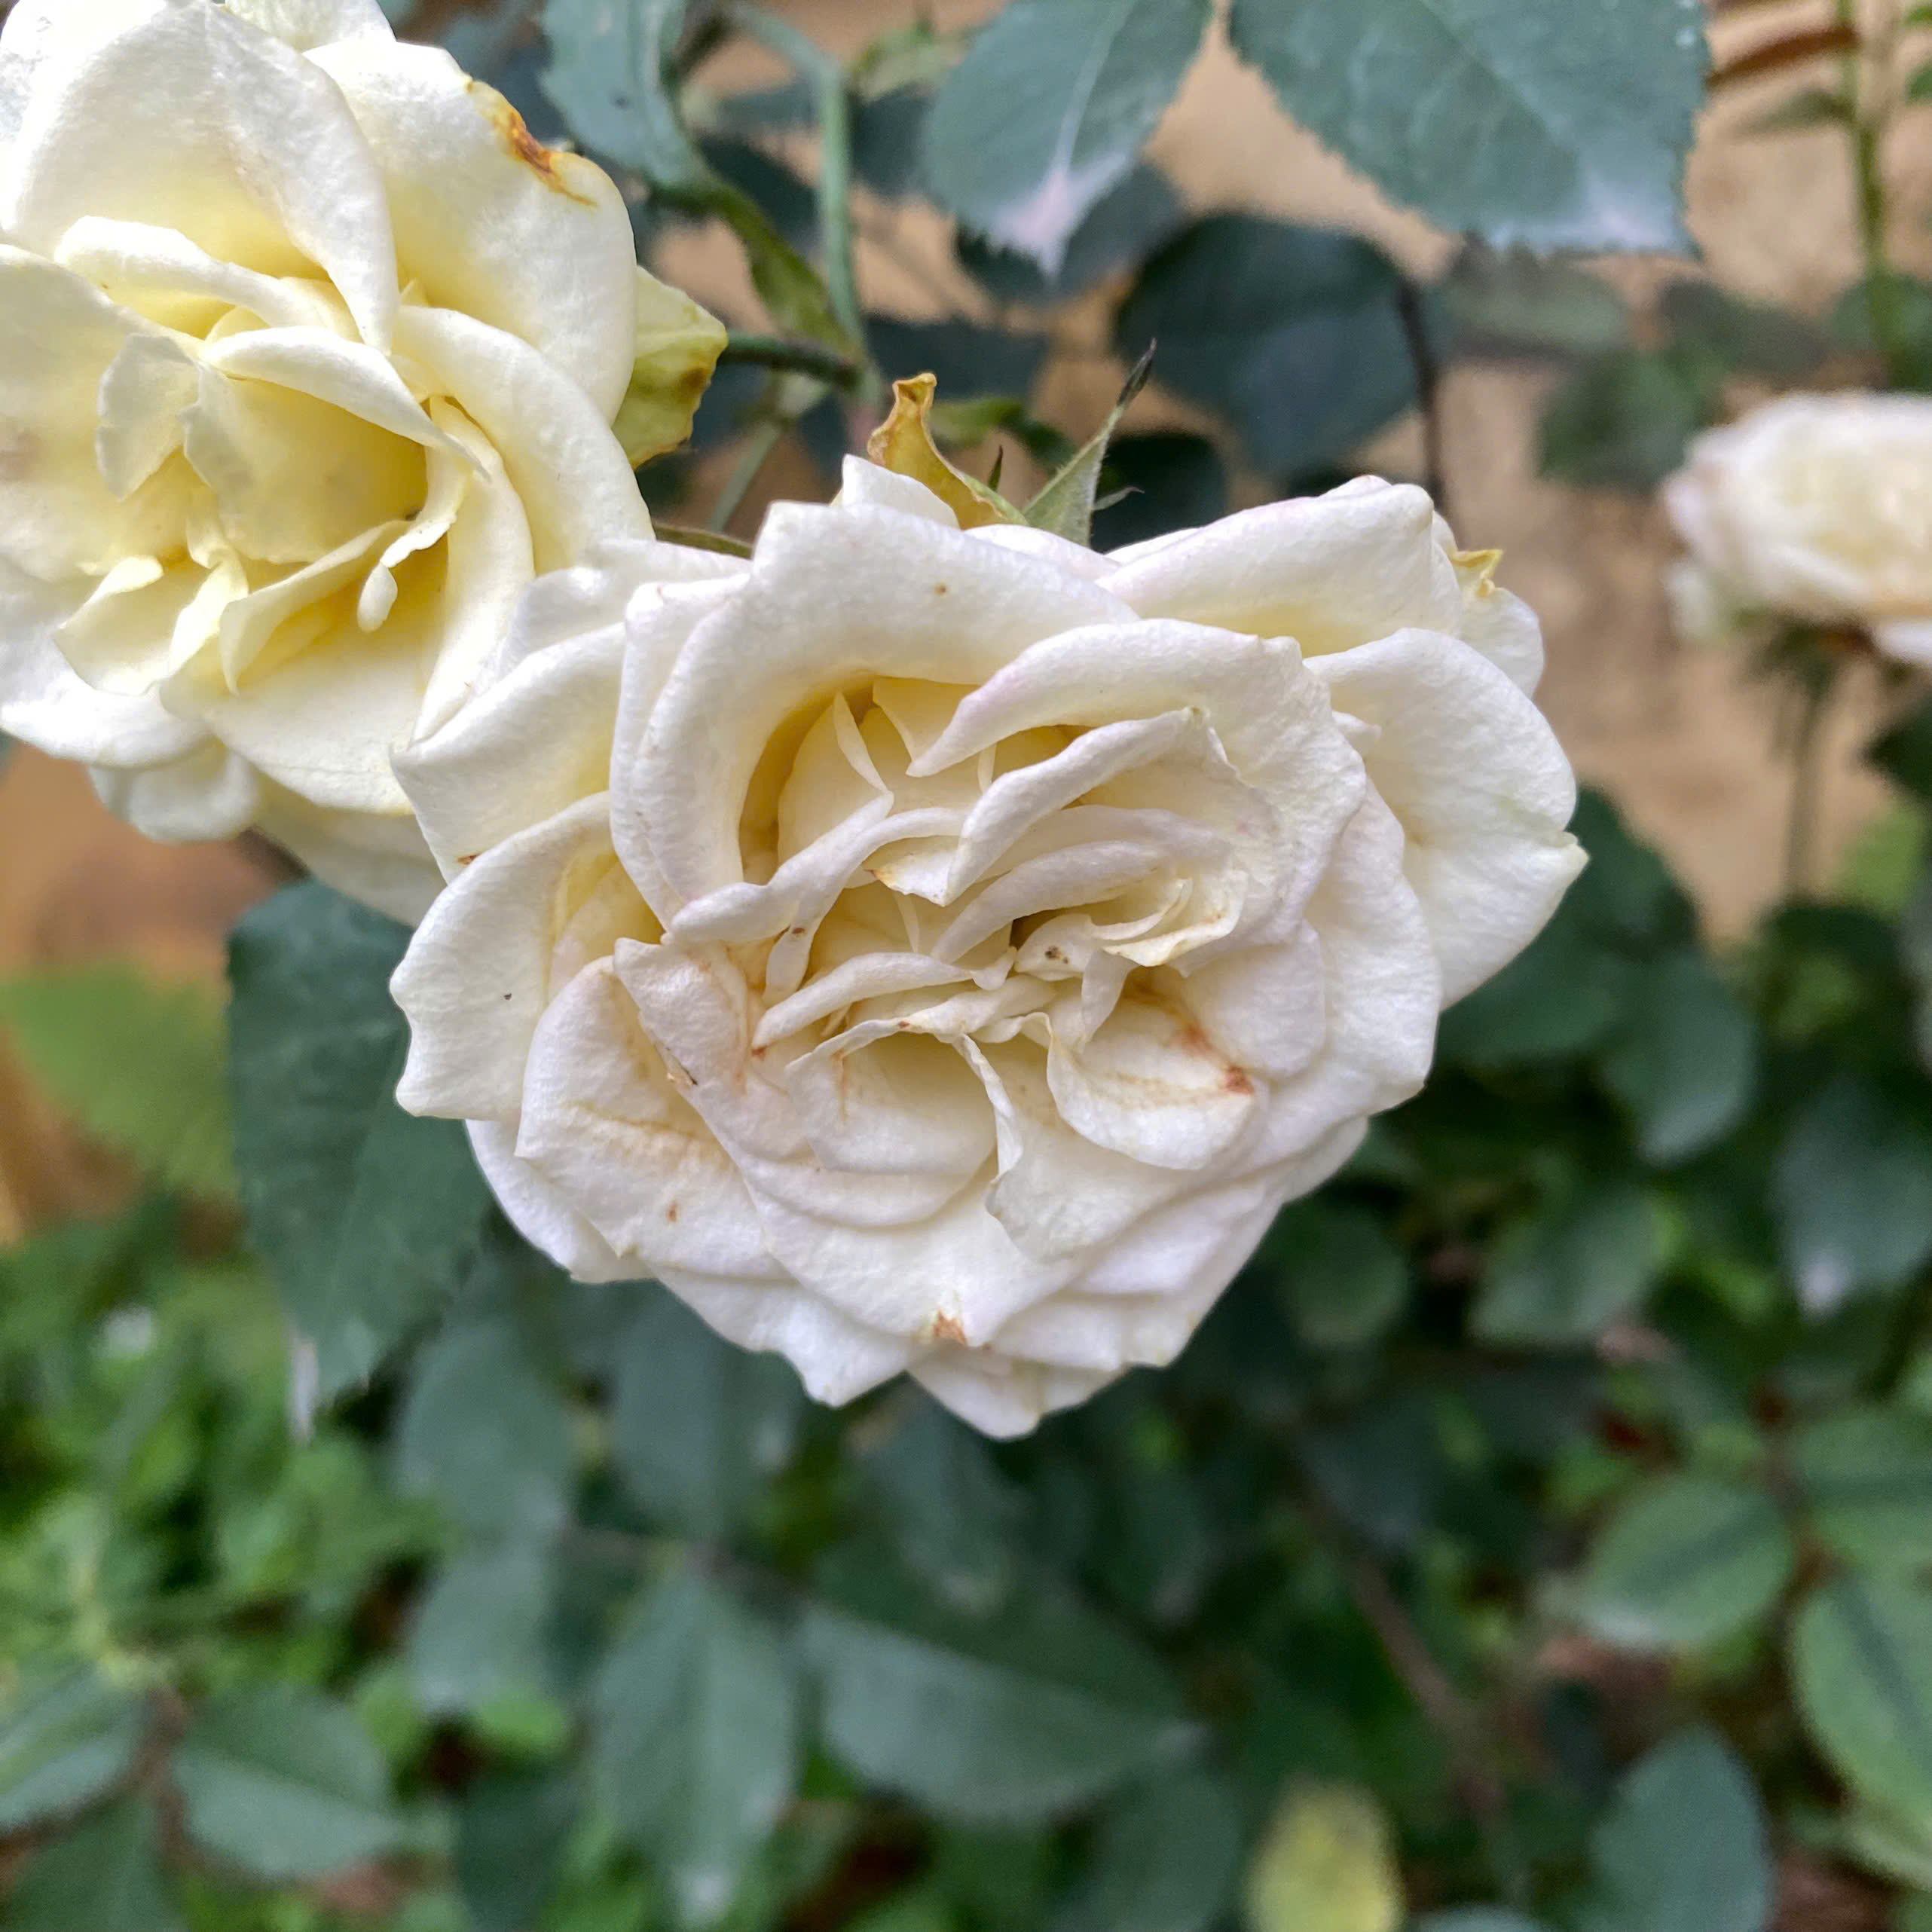hoa_thuoc_duoc: (364, 432, 1675, 1518)
